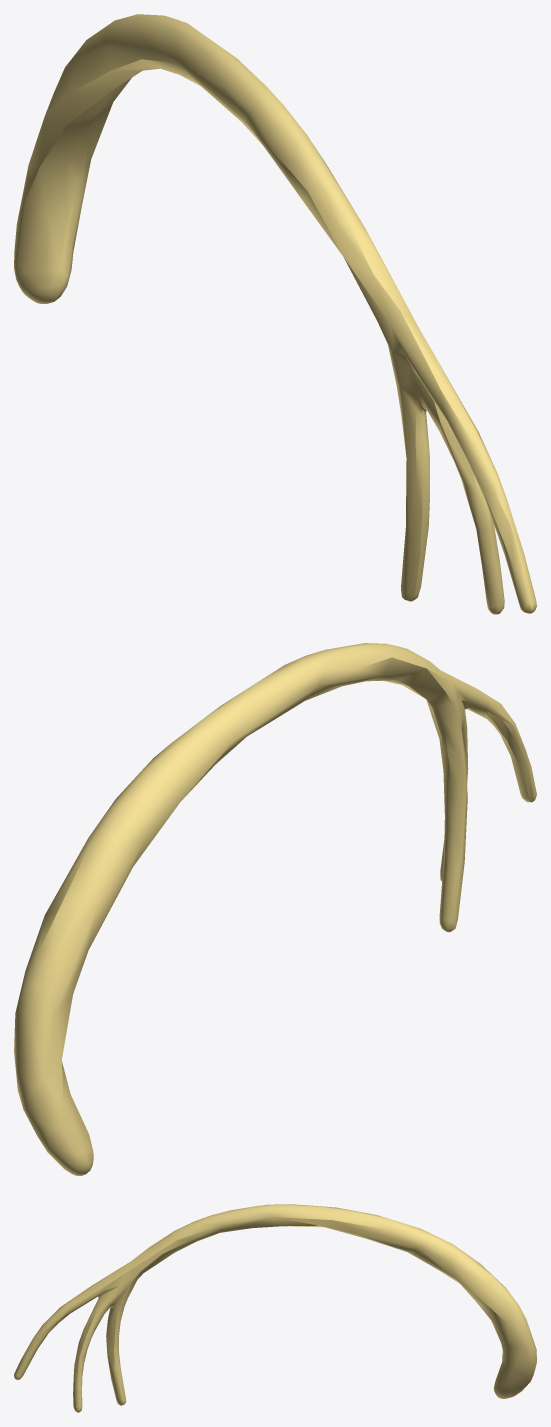
Rendered from fma73414_fj1777.glb.
3 renders of one model, top to bottom at view 1: azimuth 30°, elevation 25°; view 2: azimuth 150°, elevation 25°; view 3: azimuth 270°, elevation 25°, orthographic. The views are drawn at different scales.
Visible parts, largest first — view 1: FMA73414_FJ1777; view 2: FMA73414_FJ1777; view 3: FMA73414_FJ1777.
Part boxes in pixels (x1,y1,x2,y2): FMA73414_FJ1777: (14, 14, 536, 614); FMA73414_FJ1777: (14, 643, 536, 1175); FMA73414_FJ1777: (14, 1204, 536, 1412).
Bounding box in the file's own units: 0.00384 × 0.0157 × 0.0368.
